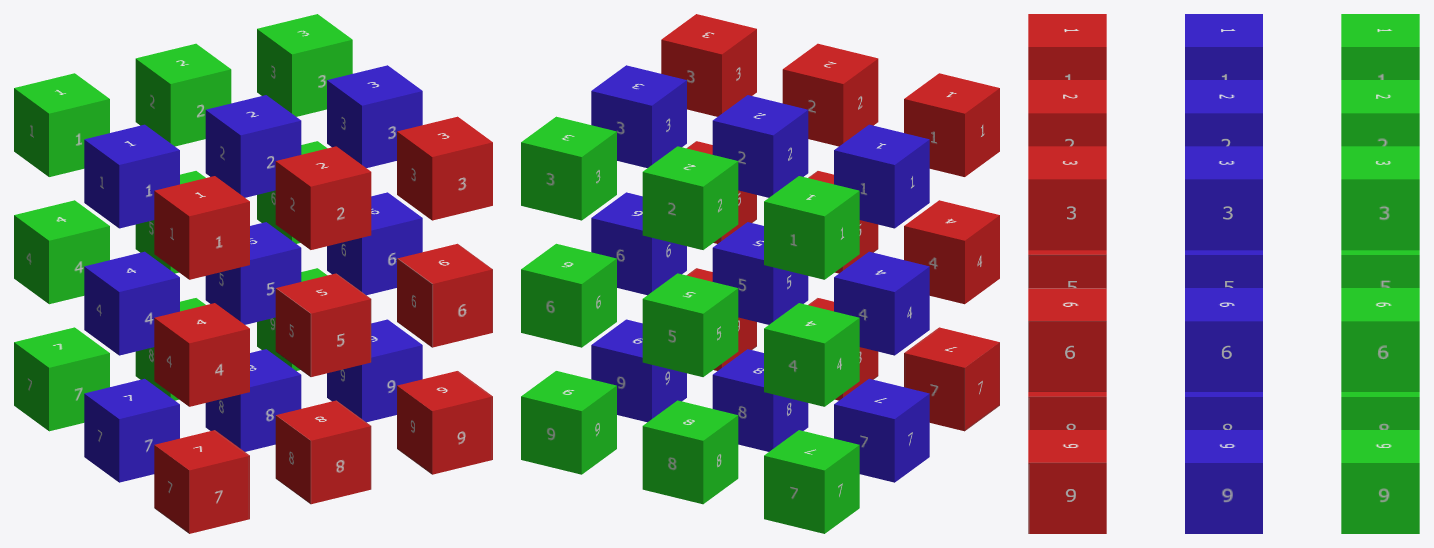
Rendered from rubiks_cube.glb.
3 renders of one model, left to right at view 1: azimuth 30°, elevation 25°; view 2: azimuth 150°, elevation 25°; view 3: azimuth 270°, elevation 25°, orthographic. The views are drawn at different scales.
Visible parts, largest first — view 1: red_cube_8, red_cube_5, red_cube_2, red_cube_4, red_cube_7, red_cube_9, red_cube_1, red_cube_6, red_cube_3, green_cube_1, green_cube_4, blue_cube_4 (+15 smaller); view 2: green_cube_8, green_cube_5, green_cube_2, green_cube_4, green_cube_7, green_cube_9, green_cube_1, green_cube_6, green_cube_3, red_cube_1, red_cube_4, red_cube_7 (+15 smaller); view 3: red_cube_3, green_cube_3, red_cube_9, red_cube_6, green_cube_6, green_cube_9, blue_cube_3, blue_cube_6, blue_cube_9, red_cube_2, green_cube_2, blue_cube_2 (+9 smaller).
Boxes of the visible parts, box(x1,y1,x2,y2) form: red_cube_8: box(275, 400, 371, 504); red_cube_5: box(275, 273, 371, 376); red_cube_2: box(275, 146, 371, 249); red_cube_4: box(154, 303, 249, 406); red_cube_7: box(154, 430, 249, 533); red_cube_9: box(397, 371, 492, 474); red_cube_1: box(154, 176, 249, 279); red_cube_6: box(397, 243, 492, 347); red_cube_3: box(397, 116, 492, 220); green_cube_1: box(14, 73, 109, 176); green_cube_4: box(14, 200, 109, 304); blue_cube_4: box(84, 251, 179, 355); green_cube_8: box(642, 400, 738, 504); green_cube_5: box(642, 273, 738, 376); green_cube_2: box(642, 146, 738, 249); green_cube_4: box(764, 303, 859, 406); green_cube_7: box(764, 430, 859, 533); green_cube_9: box(521, 371, 616, 474); green_cube_1: box(764, 176, 859, 279); green_cube_6: box(521, 243, 616, 347); green_cube_3: box(521, 116, 616, 220); red_cube_1: box(904, 73, 999, 176); red_cube_4: box(904, 200, 999, 304); red_cube_7: box(904, 327, 999, 431); red_cube_3: box(1028, 146, 1106, 250); green_cube_3: box(1341, 146, 1419, 250); red_cube_9: box(1028, 430, 1106, 533); red_cube_6: box(1028, 288, 1106, 391); green_cube_6: box(1341, 288, 1419, 391); green_cube_9: box(1341, 430, 1419, 533); blue_cube_3: box(1185, 146, 1262, 250); blue_cube_6: box(1185, 288, 1262, 391); blue_cube_9: box(1185, 430, 1262, 533); red_cube_2: box(1028, 80, 1106, 146); green_cube_2: box(1341, 80, 1419, 146); blue_cube_2: box(1185, 80, 1262, 146).
Bounding box in the file's own units: 10 × 10 × 10.
Materials: 27 (27 with a texture image).
